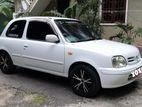car: (1, 16, 142, 96)
